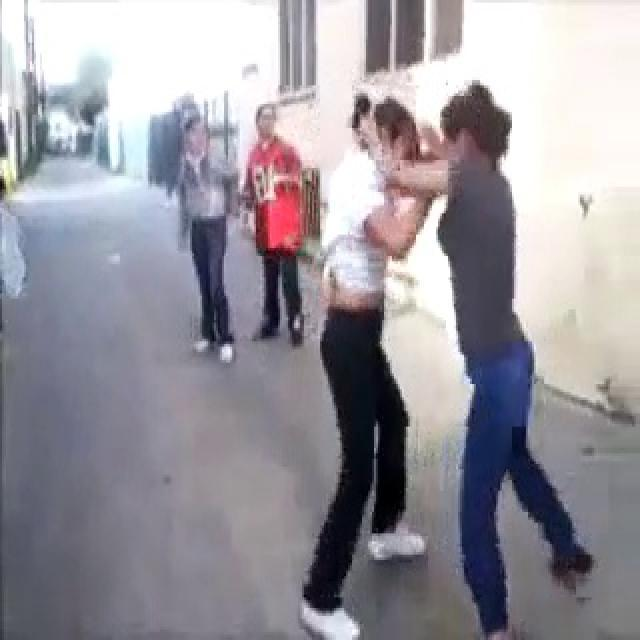non_violence: (246, 99, 310, 304), (182, 110, 234, 316)
violence: (321, 80, 534, 514)
